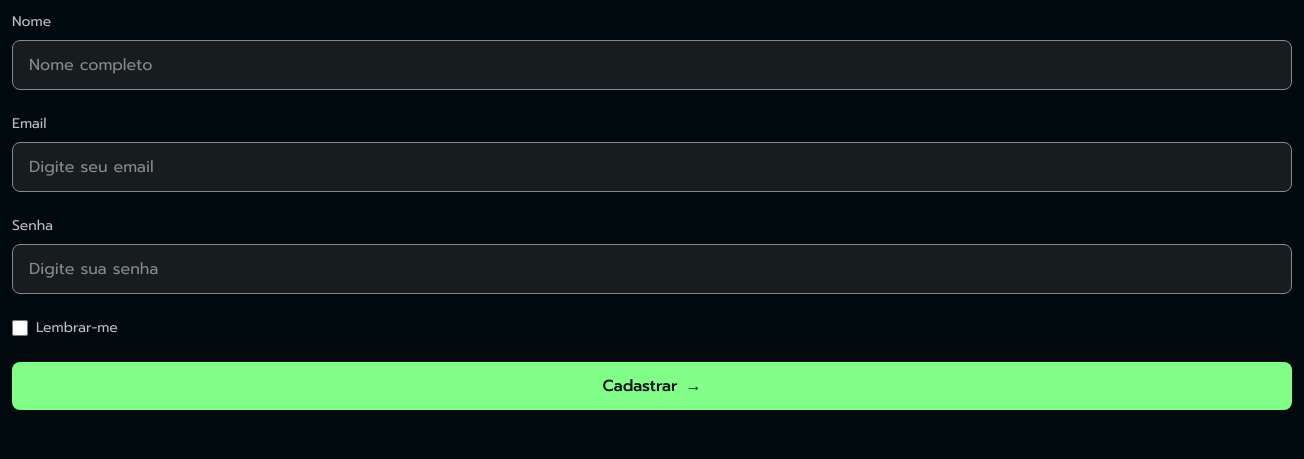
RegisterForm › flags a password shorter than 8 characters
This screenshot has width=1304, height=459.
In the field labelled "Nome": point(652, 65) [12,40,1292,90], type "Ana"
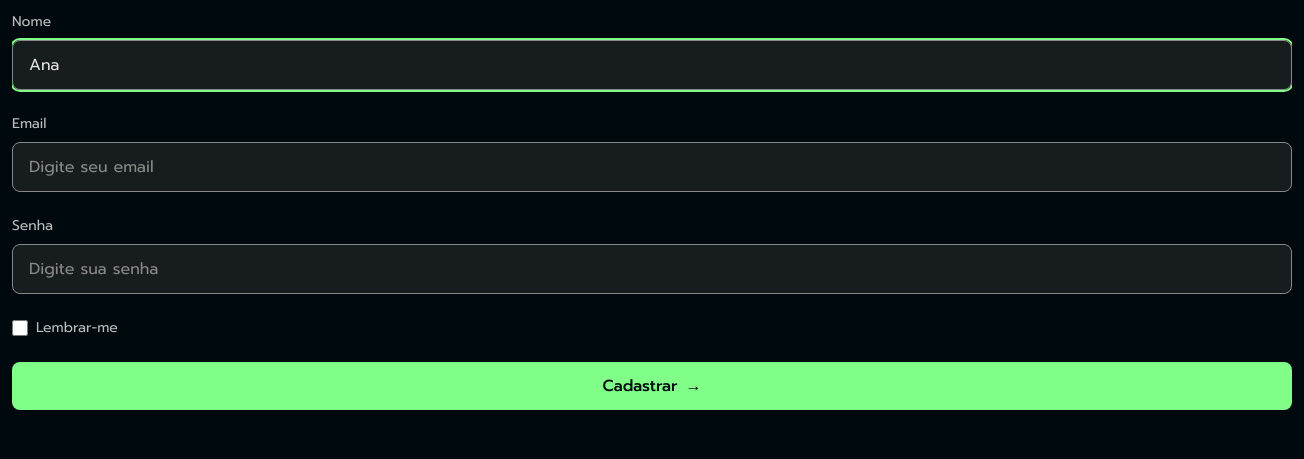
In the field labelled "Email": point(652, 167) [12,142,1292,192], type "ana@code.com"
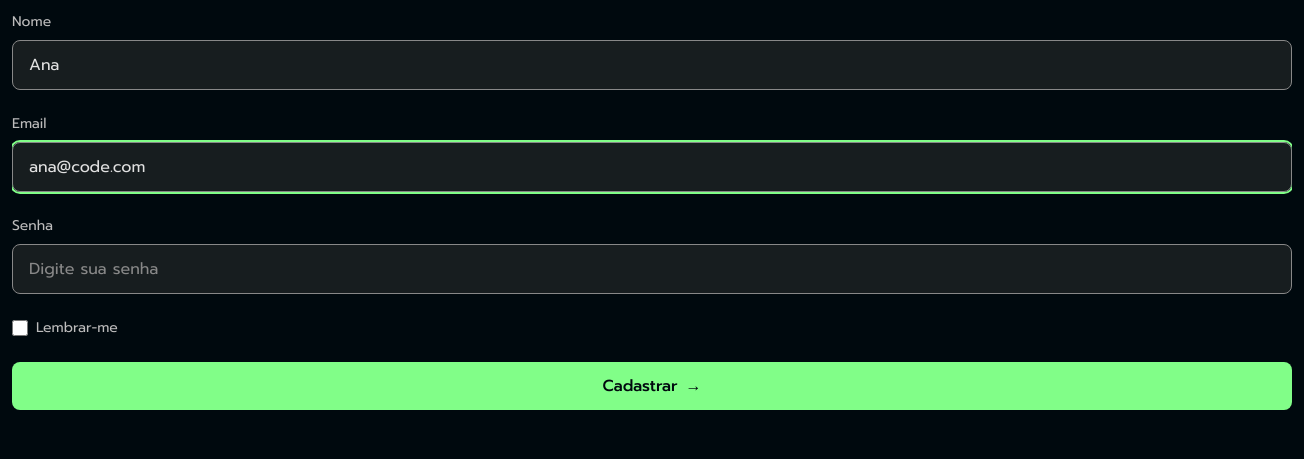
In the password field labelled "Senha": point(652, 269) [12,244,1292,294], type "segredo"
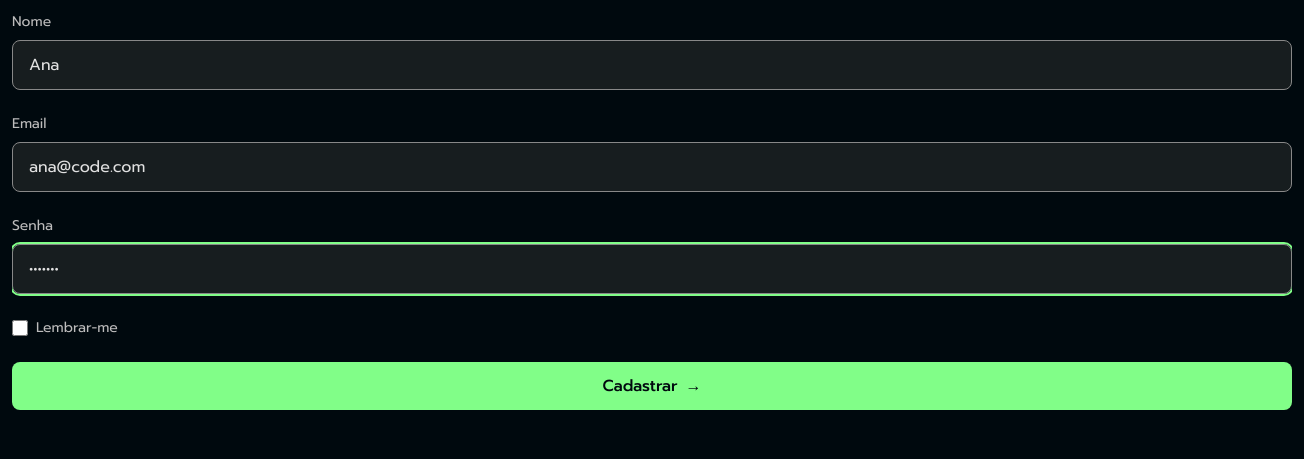
Click the button "Cadastrar →": point(652, 386) [12,362,1292,410]
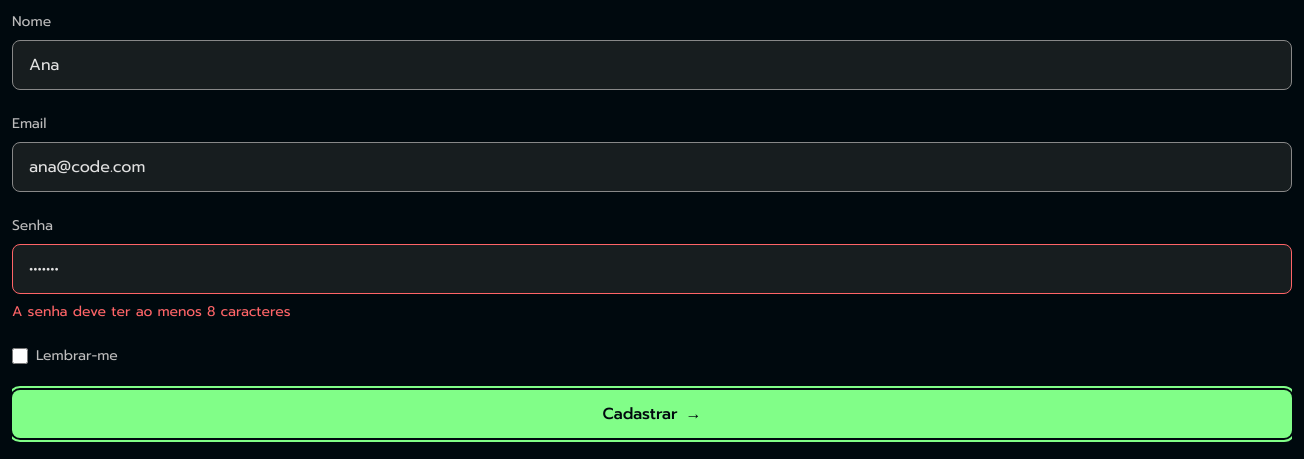
expect the text "A senha deve ter ao menos 8 caracteres" is shown: met, box [12,301,291,322]
